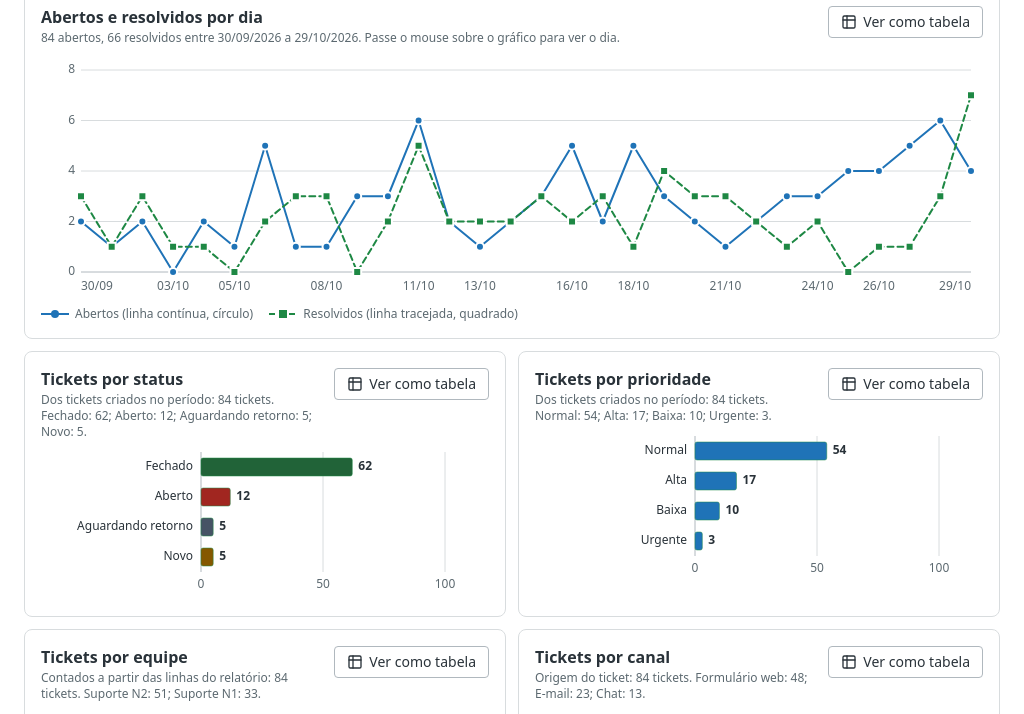
Scenario: Relatórios › "Ver como tabela" troca o gráfico pela mesma série em tabela
This screenshot has width=1024, height=714.
(page scrolled)
Click the button "Ver como tabela" in the row of "Tickets por status": (412, 384) [334, 368, 489, 400]
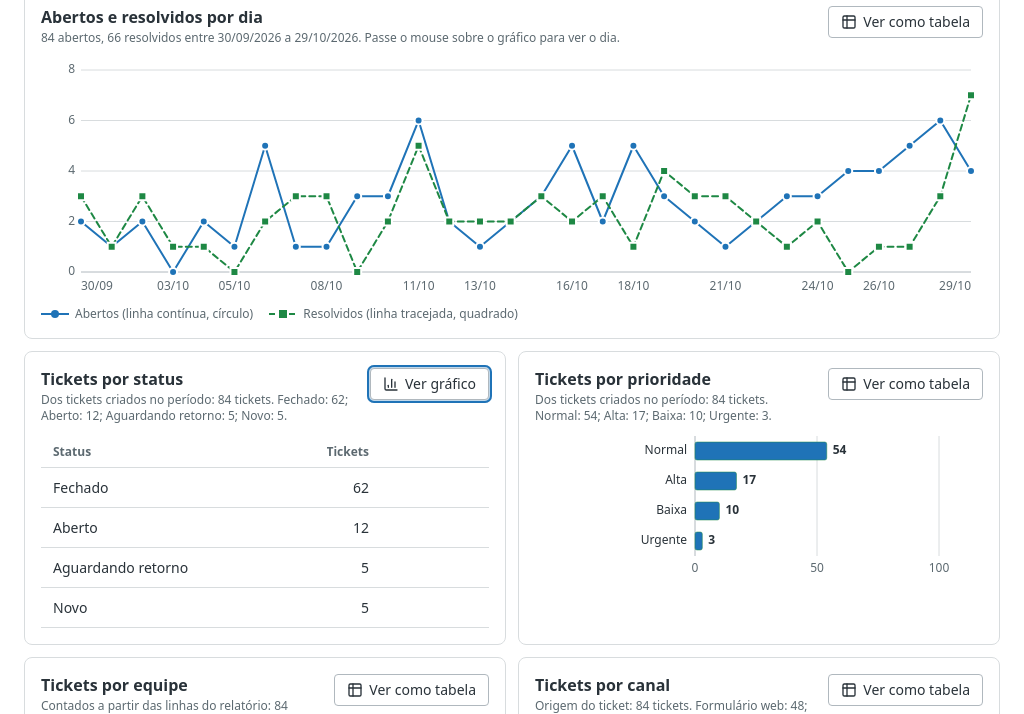
Expected: the text "Novo" is shown, [41, 588, 261, 628]
Result: the picture "0 50 100 Fechado 62 Aberto 12 Aguardando retorno 5 Novo 5" is gone
Click the button "Ver gráfico": (430, 384) [370, 368, 489, 400]
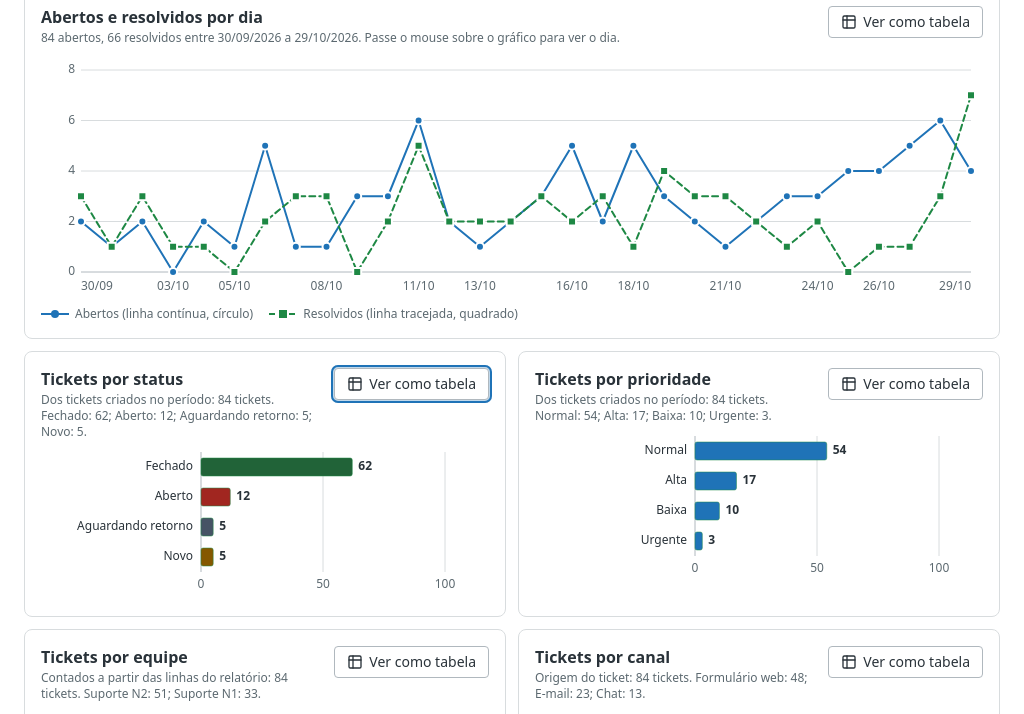
Result: the picture "0 50 100 Fechado 62 Aberto 12 Aguardando retorno 5 Novo 5" is shown at [41, 452, 489, 600]
